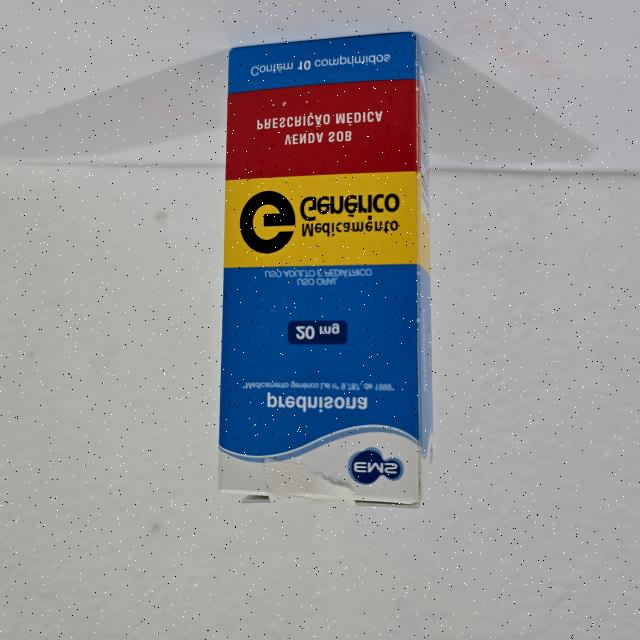prednisona: (212, 26, 436, 516)
